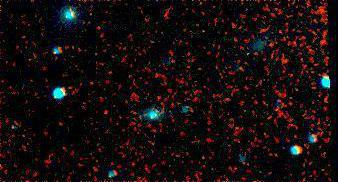star: (88, 100, 118, 130)
